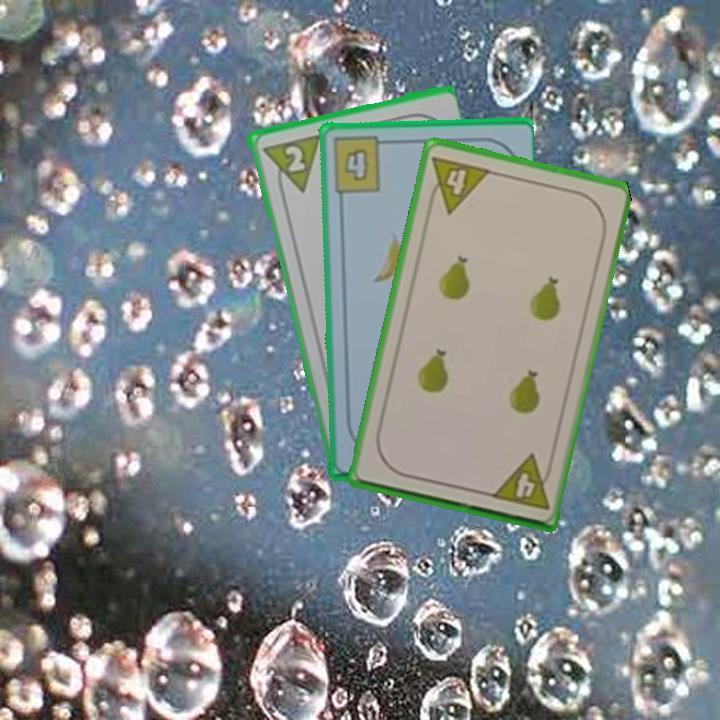2p: (257, 130, 322, 200)
4b: (328, 133, 392, 196)
4p: (423, 152, 493, 217), (487, 451, 556, 513)
